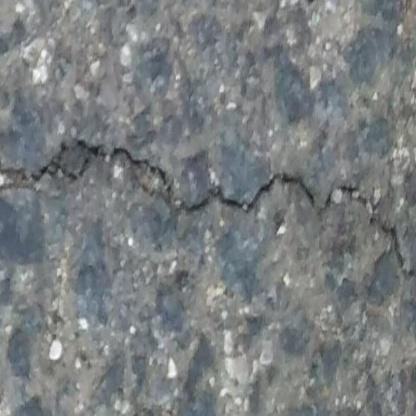Cracks: (0, 136, 416, 286)
